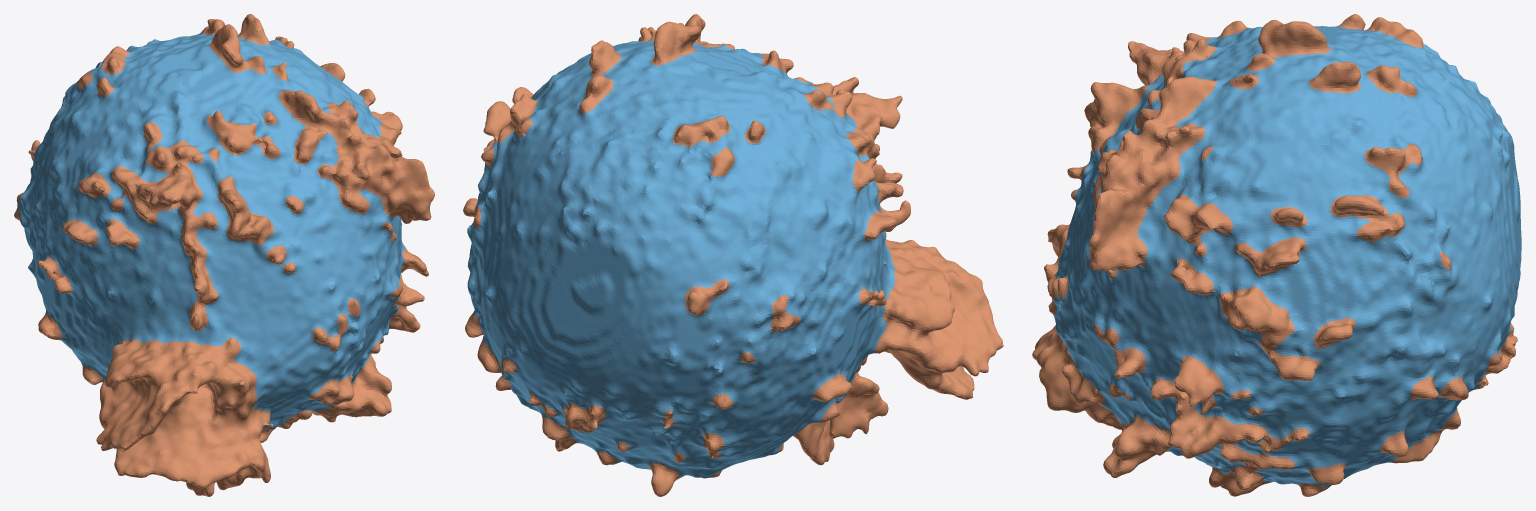
3 renders of one model, left to right at view 1: azimuth 30°, elevation 25°; view 2: azimuth 150°, elevation 25°; view 3: azimuth 270°, elevation 25°, orthographic. The views are drawn at different scales.
Size of the model in its own units: 146 by 152 by 140.
